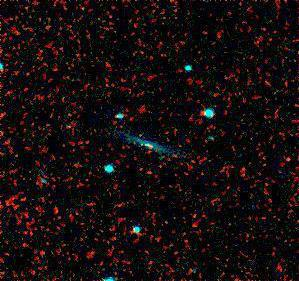star: (125, 131, 155, 161)
